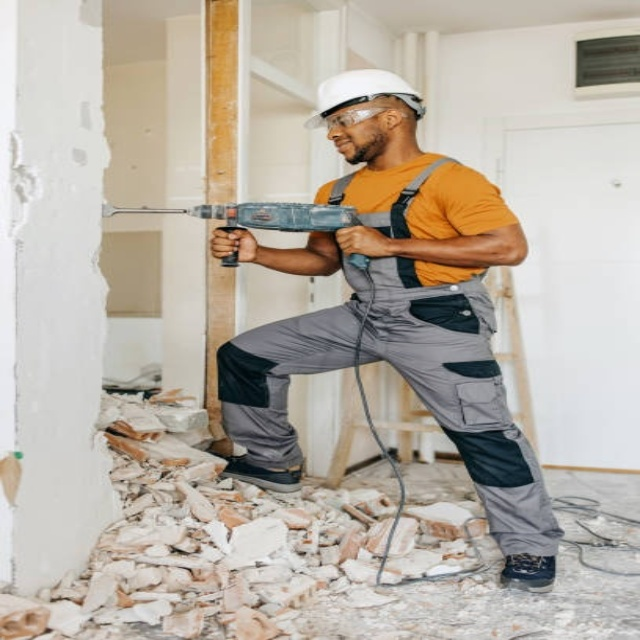Gafas: (322, 104, 395, 133)
Sin_guantes: (331, 225, 390, 258), (210, 226, 259, 262)
Sin_mascara: (331, 138, 364, 160)
